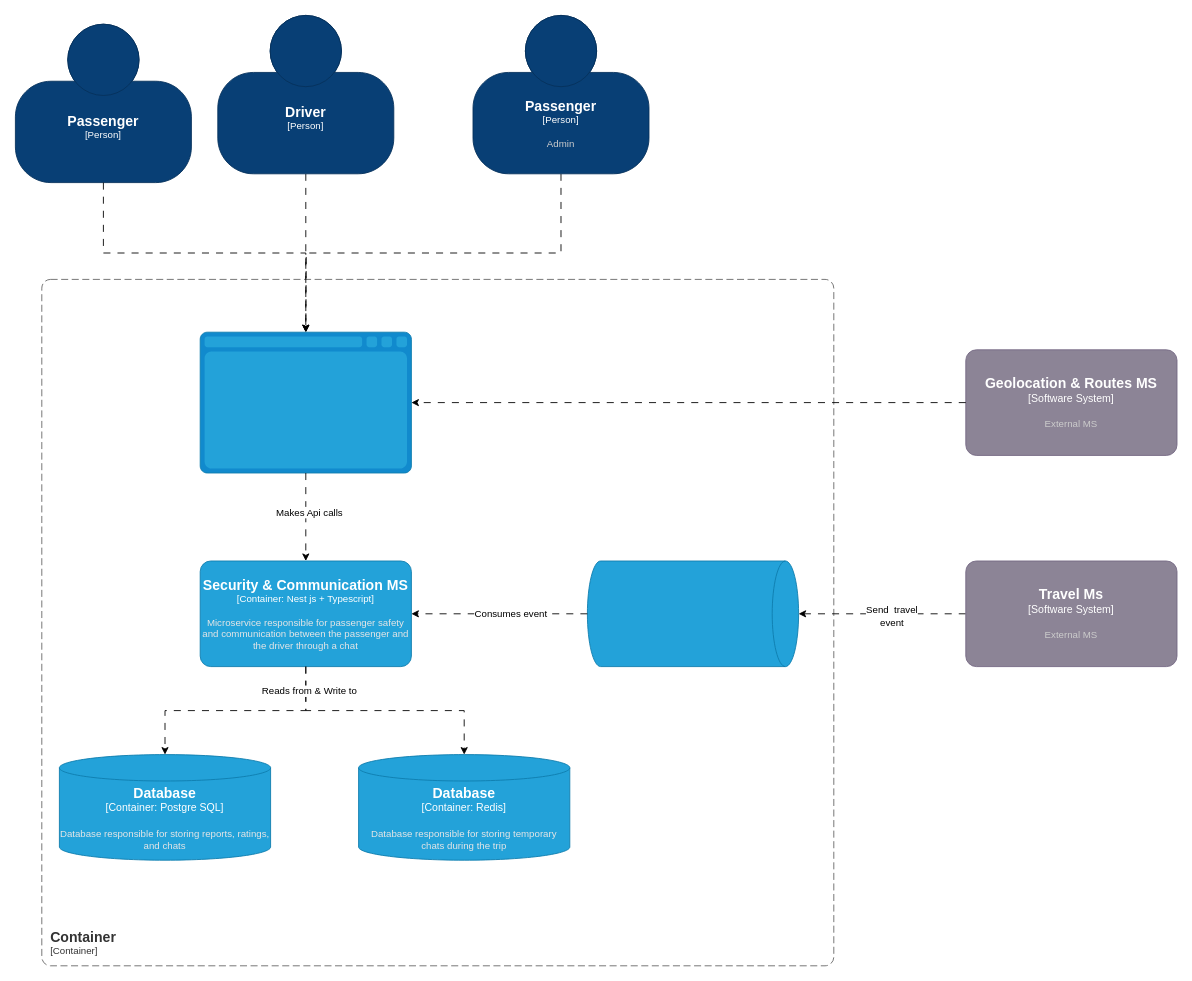
This 1192x981 diagram has some shape labels left out. Each missing label, with the centre of its shape:
"Event bus [Container: Rabbit MQ]" belongs at point 693,613.
"Web Page [Container: React + Vite] Delivers chat application" belongs at point 305,402.
